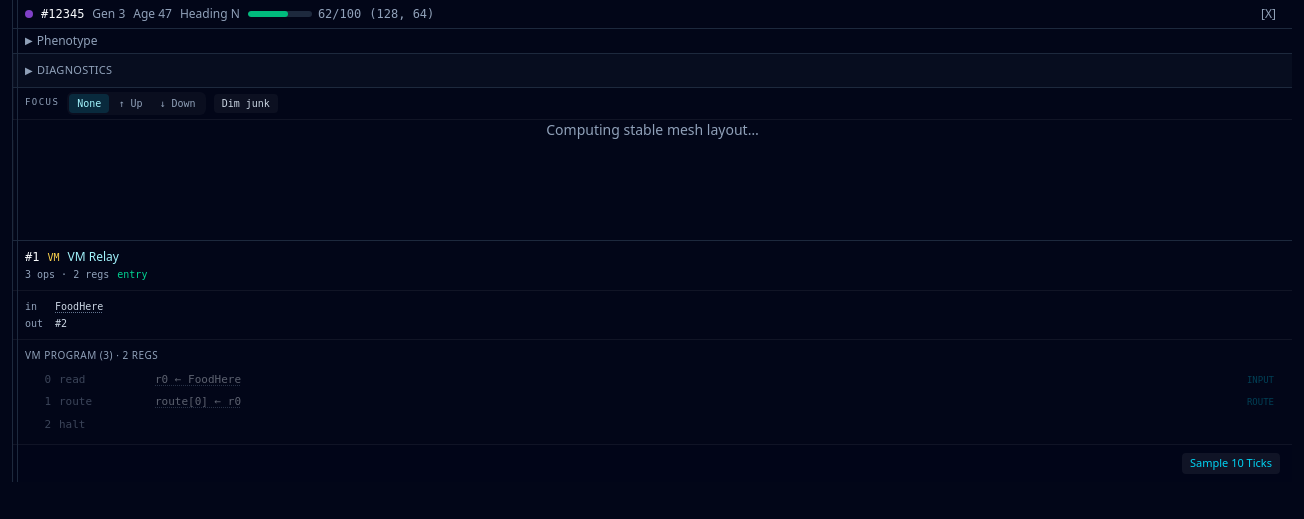
Test: UnifiedInspector › renders diagnostics empty state when diagnostics are missing
Expected: the element with test id "inspector-diagnostics-empty" is shown, [13,54,1292,88]
Expected: the text "Diagnostics unavailable for this creature response." is not shown
Click the button with test id "inspector-diagnostics-toggle" at (75, 70), box [25,62,1280,78]
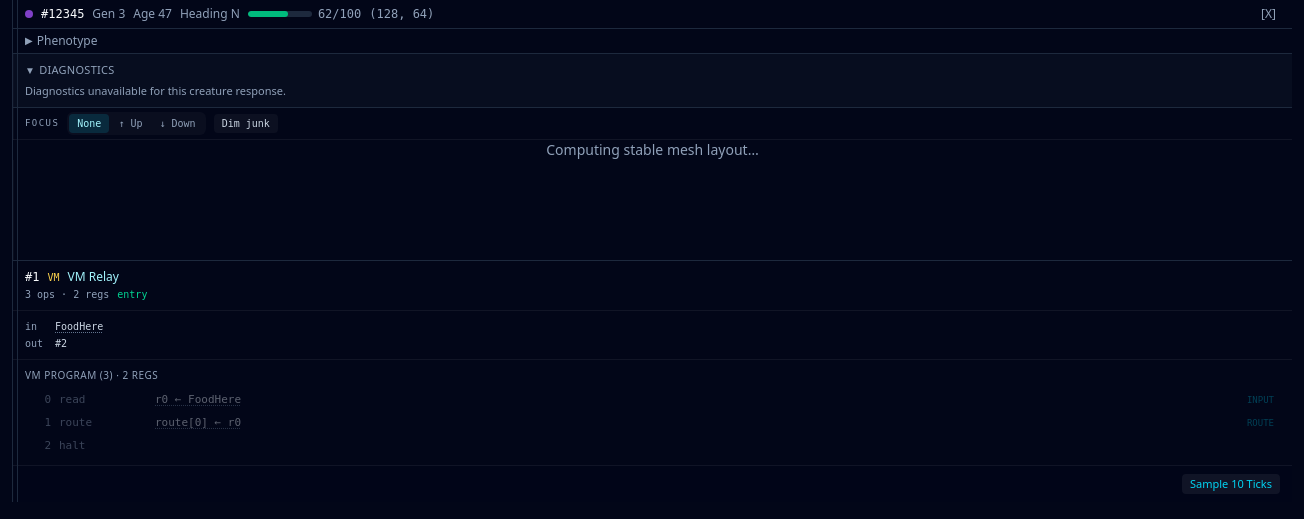
Expected: the text "Diagnostics unavailable for this creature response." is shown, [25,82,286,98]
